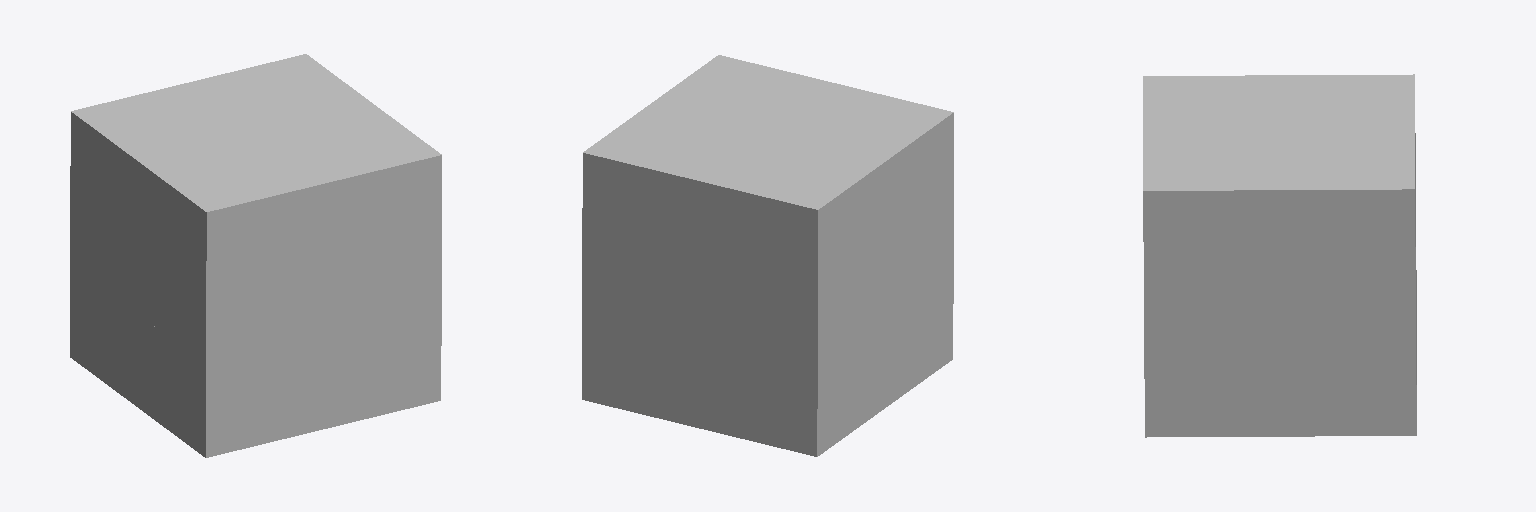
Rendered from head.obj.
3 renders of one model, left to right at view 1: azimuth 30°, elevation 25°; view 2: azimuth 150°, elevation 25°; view 3: azimuth 270°, elevation 25°, orthographic.
Parts seen in each view (by area): view 1: Steve_Head; view 2: Steve_Head; view 3: Steve_Head.
Boxes of the visible parts, box(x1,y1,x2,y2) form: Steve_Head: box(70, 54, 441, 457); Steve_Head: box(582, 55, 953, 456); Steve_Head: box(1143, 74, 1416, 437).
Size of the model in its own units: 2 by 2.01 by 2.01.